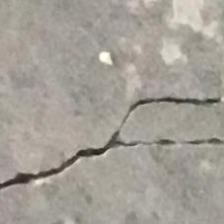Crack: (0, 86, 224, 190)
